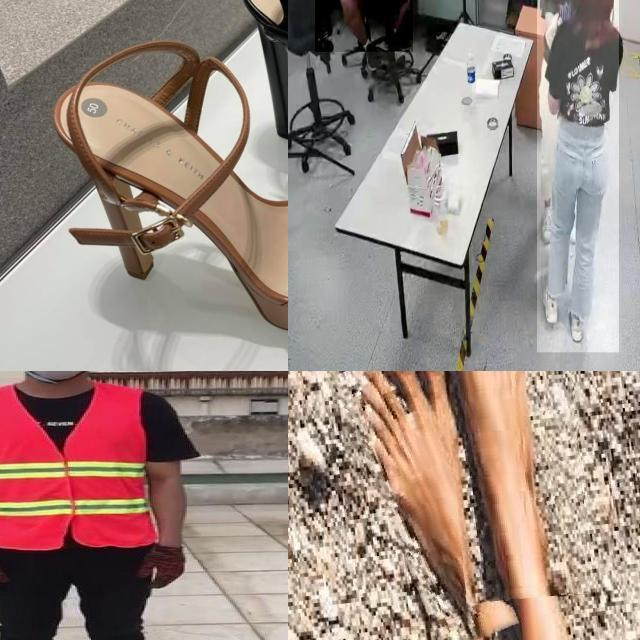Barefoots: (337, 371, 500, 640), (421, 371, 600, 605)
Sandals: (43, 27, 288, 348)
person: (0, 371, 201, 640), (536, 0, 619, 353), (314, 0, 413, 52)
shoes: (358, 30, 382, 76), (539, 280, 559, 328), (567, 291, 584, 344), (538, 199, 558, 244)
vest: (0, 382, 153, 550)
